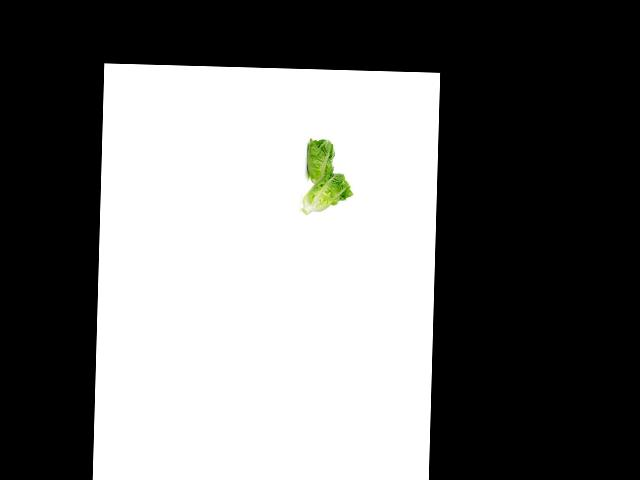lettuce: (297, 166, 351, 217)
